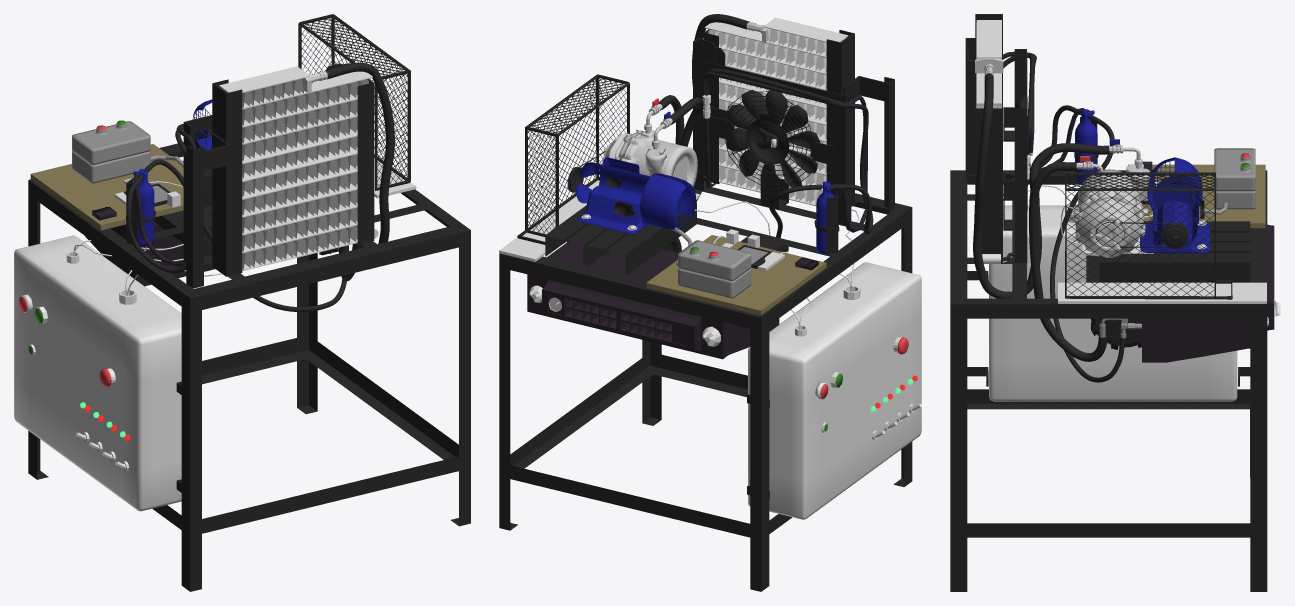
Rendered from normal.glb.
The picture shows the model from 3 angles, left to right: view 1: azimuth 30°, elevation 25°; view 2: azimuth 150°, elevation 25°; view 3: azimuth 270°, elevation 25°; orthographic projection. The views are drawn at different scales.
Parts seen in each view (by area): view 1: 3.jpg, Cube.004, fan cooler, papan, 3 palang.002, Plane.022, BézierCurve, Plane.047, Cube.050, Cube.042, Cube, Cube.043 (+23 smaller); view 2: 3.jpg, Cube.004, Cube, 3 palang.002, Plane.024, papan, 3.jpg.001, Plane.019, fan cooler, Cylinder, Plane.051, Plane.047 (+24 smaller); view 3: 3.jpg, Cube.004, 3.jpg.001, Cube, Plane.051, 3 palang.002, Cube.009, Plane.024, BézierCurve, fan cooler, BézierCurve.003, papan (+17 smaller).
Boxes of the visible parts, box(x1,y1,x2,y2) form: 3.jpg: box(28, 142, 470, 591); Cube.004: box(14, 235, 181, 511); fan cooler: box(212, 78, 374, 276); papan: box(30, 144, 183, 230); 3 palang.002: box(126, 63, 346, 288); Plane.022: box(72, 121, 150, 164); BézierCurve: box(325, 62, 394, 247); Plane.047: box(298, 14, 410, 190); Cube.050: box(242, 79, 368, 125); Cube.042: box(242, 225, 357, 269); Cube: box(84, 161, 214, 286); Cube.043: box(242, 207, 357, 251); 3.jpg: box(499, 181, 912, 591); Cube.004: box(748, 262, 921, 519); Cube: box(527, 242, 779, 359); 3 palang.002: box(693, 37, 894, 253); Plane.024: box(577, 157, 695, 234); papan: box(646, 235, 826, 315); 3.jpg.001: box(545, 202, 696, 276); Plane.019: box(726, 89, 820, 187); fan cooler: box(703, 29, 854, 206); Cylinder: box(615, 129, 697, 187); Plane.051: box(527, 79, 597, 226); Plane.047: box(517, 74, 629, 244); 3.jpg: box(950, 170, 1267, 591); Cube.004: box(989, 205, 1237, 401); 3.jpg.001: box(1099, 221, 1250, 282); Cube: box(1142, 224, 1274, 362); Plane.051: box(1066, 190, 1215, 296); 3 palang.002: box(965, 38, 1097, 262); Cube.009: box(1058, 282, 1266, 303); Plane.024: box(1140, 157, 1210, 253); BézierCurve: box(973, 73, 1109, 298); fan cooler: box(975, 14, 1002, 263); BézierCurve.003: box(1029, 162, 1107, 361); papan: box(1128, 164, 1265, 228).
Bounding box in the file's own units: 10.27 × 14.49 × 9.29.
